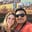face: (5, 11, 17, 29), (15, 8, 27, 24)
